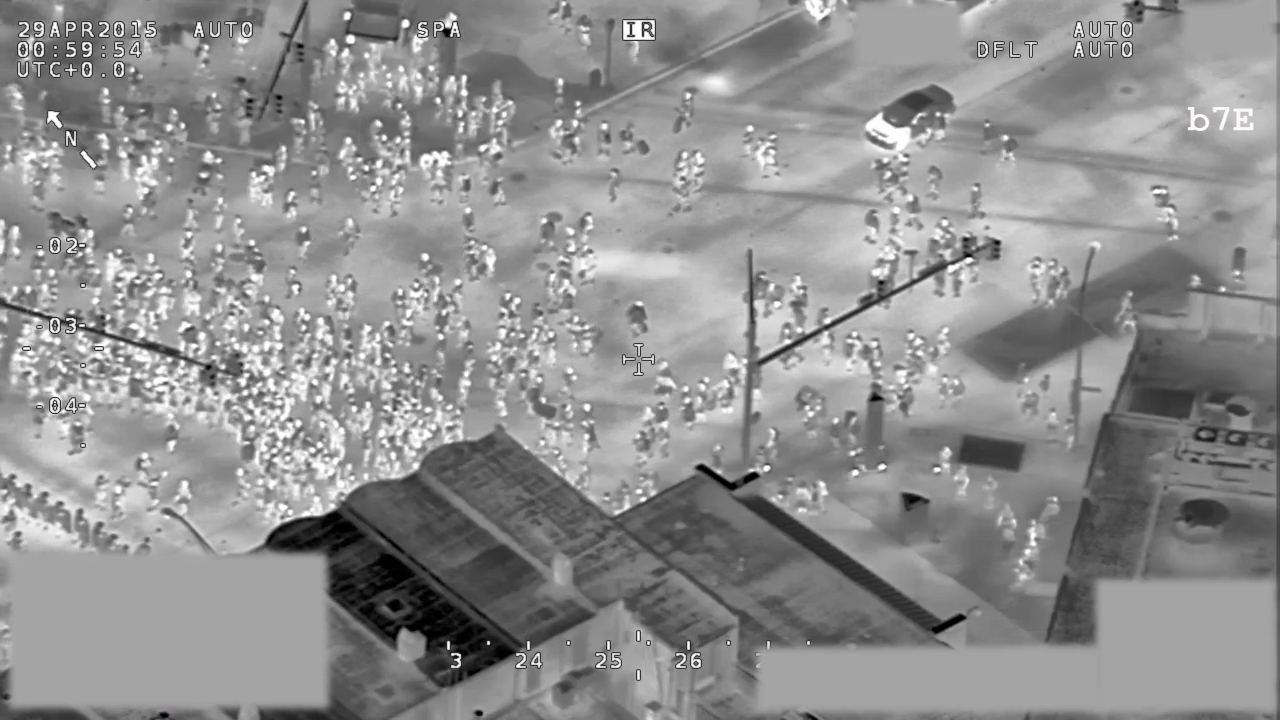vehicle: (861, 81, 957, 156)
